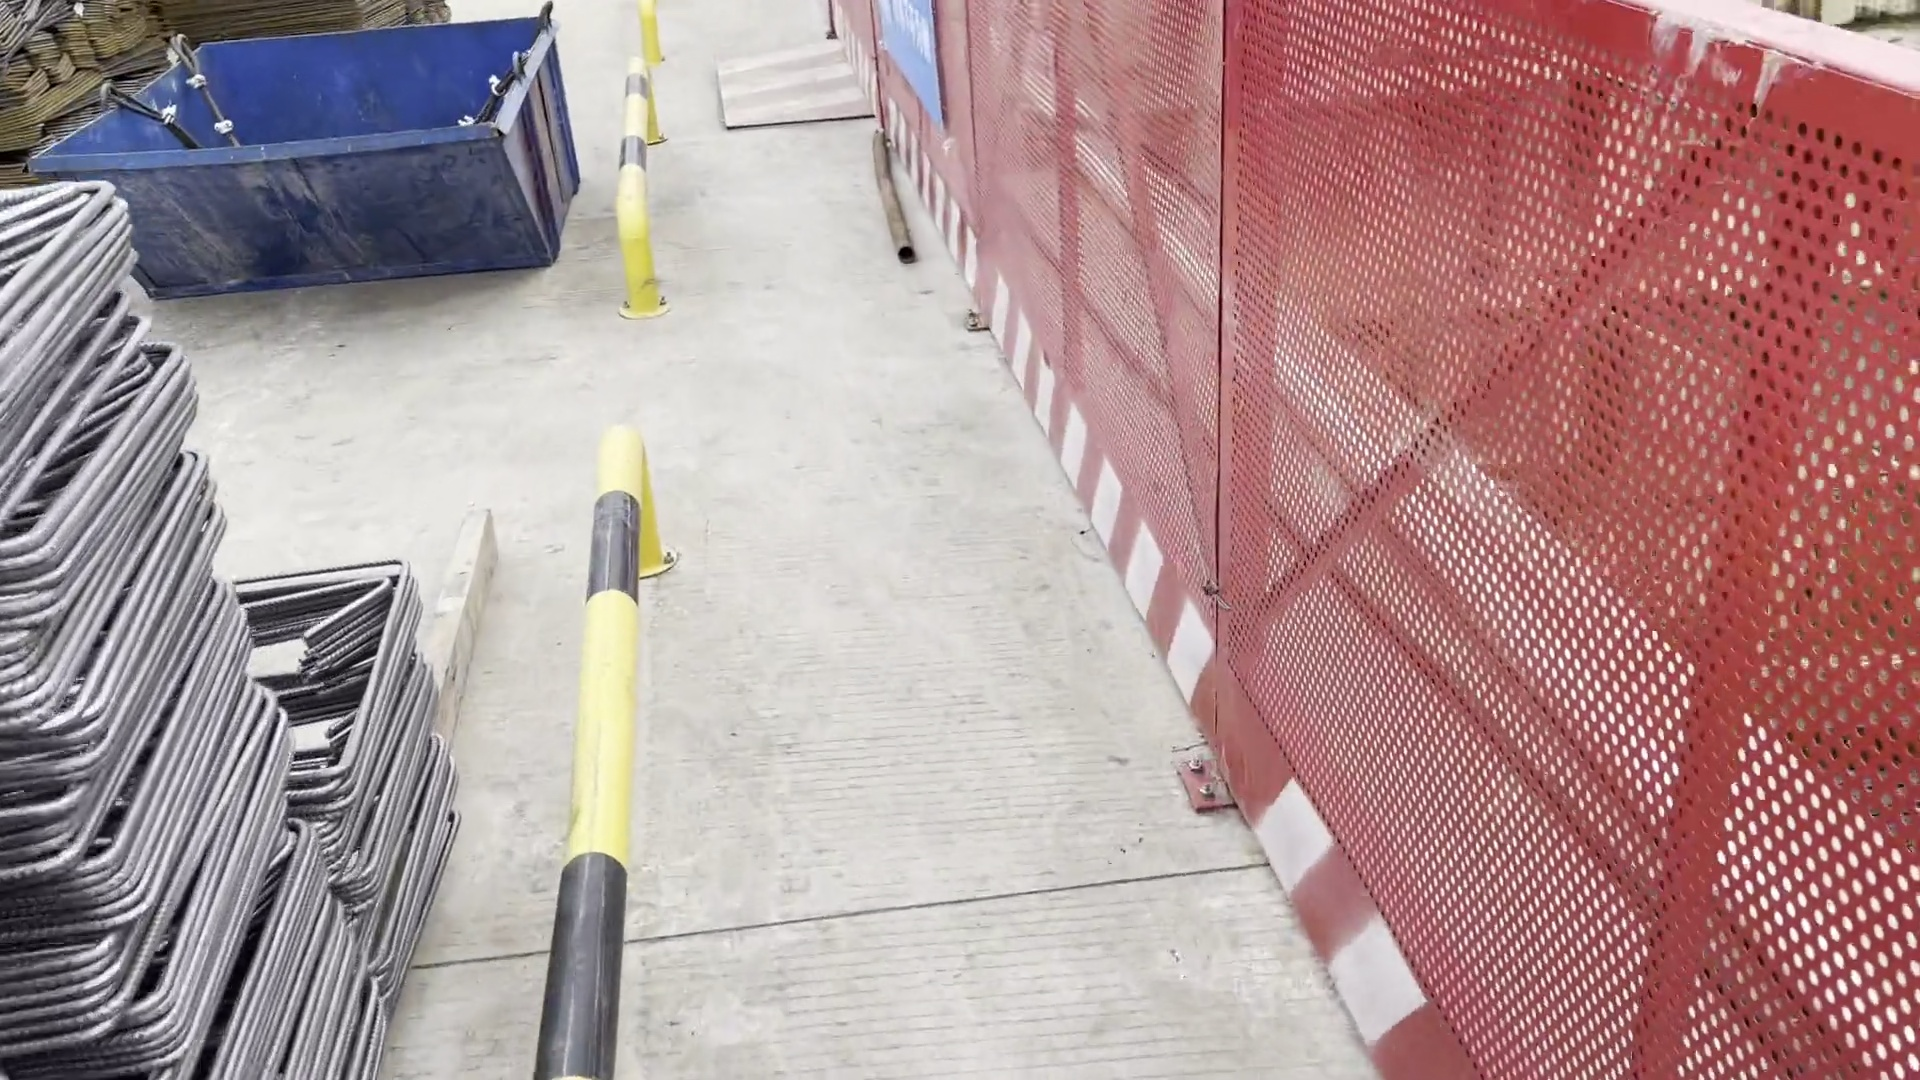fence: (827, 1, 1920, 1080)
hopper: (38, 12, 608, 320)
slogan: (862, 1, 976, 138)
